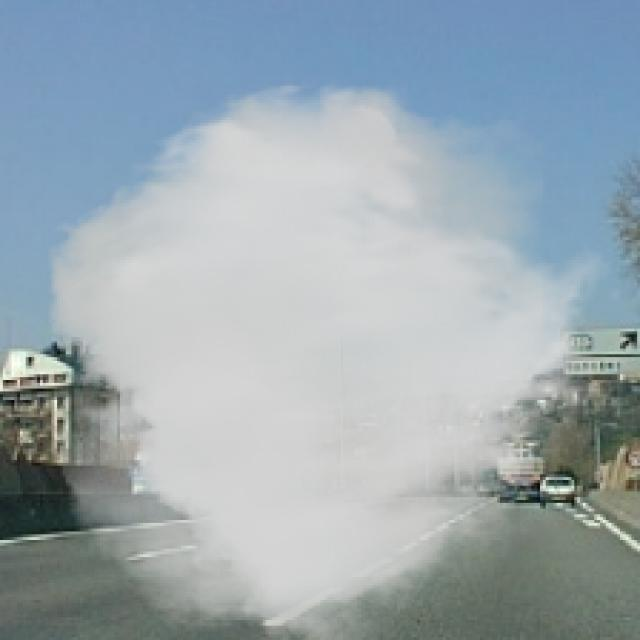smoke: (49, 77, 617, 637)
